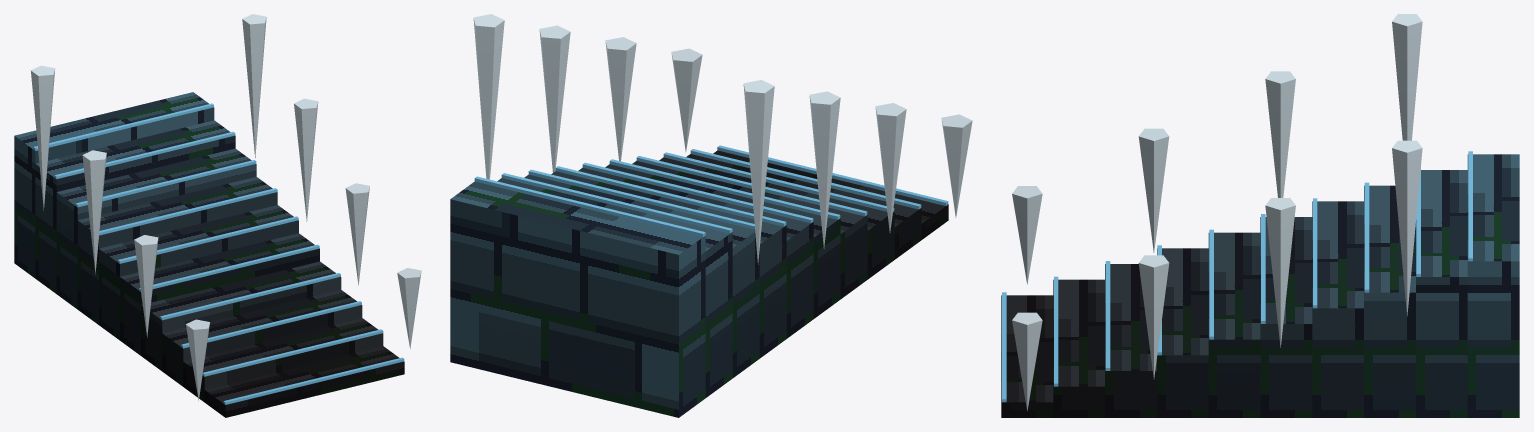
File: crown_stair.glb
The picture shows the model from 3 angles, left to right: view 1: azimuth 30°, elevation 25°; view 2: azimuth 150°, elevation 25°; view 3: azimuth 270°, elevation 25°; orthographic projection. The views are drawn at different scales.
Parts seen in each view (by area): view 1: crown_stair; view 2: crown_stair; view 3: crown_stair.
Part boxes in pixels (x1,y1,x2,y2): crown_stair: [14, 14, 421, 417]; crown_stair: [450, 14, 972, 417]; crown_stair: [1001, 14, 1519, 417].
Bounding box in the file's own units: 2.85 × 2.7 × 4.5.
Materials: 3 (1 with a texture image).
